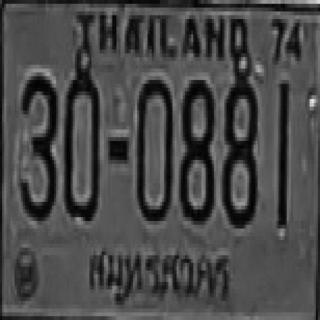N00: (62, 66, 98, 219), (135, 76, 172, 221)
N01: (276, 82, 287, 223)
N03: (19, 72, 56, 217)
N08: (220, 76, 256, 225), (179, 76, 212, 221)
P58: (86, 239, 234, 308)
